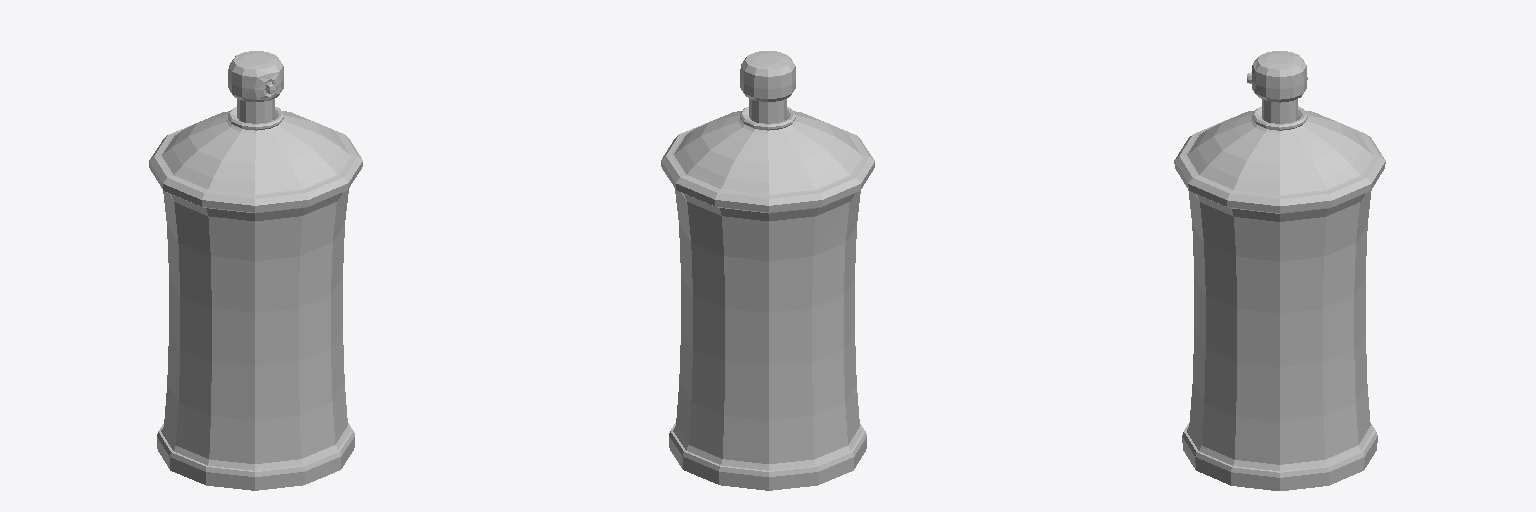
Rendered from Spray.obj.
3 renders of one model, left to right at view 1: azimuth 30°, elevation 25°; view 2: azimuth 150°, elevation 25°; view 3: azimuth 270°, elevation 25°, orthographic.
Parts seen in each view (by area): view 1: Spray1:ZBrushPolyMesh3D; view 2: Spray1:ZBrushPolyMesh3D; view 3: Spray1:ZBrushPolyMesh3D.
Part boxes in pixels (left/top/right/bottom): Spray1:ZBrushPolyMesh3D: left=149, top=51, right=362, bottom=490; Spray1:ZBrushPolyMesh3D: left=661, top=51, right=874, bottom=490; Spray1:ZBrushPolyMesh3D: left=1174, top=51, right=1385, bottom=490.
Bounding box in the file's own units: 0.0924 × 0.1864 × 0.0909.